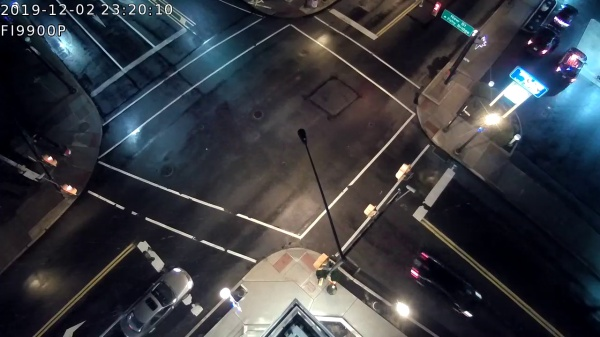car: (400, 250, 489, 314), (120, 263, 194, 337), (553, 46, 585, 84), (523, 25, 558, 56), (553, 4, 581, 32)
